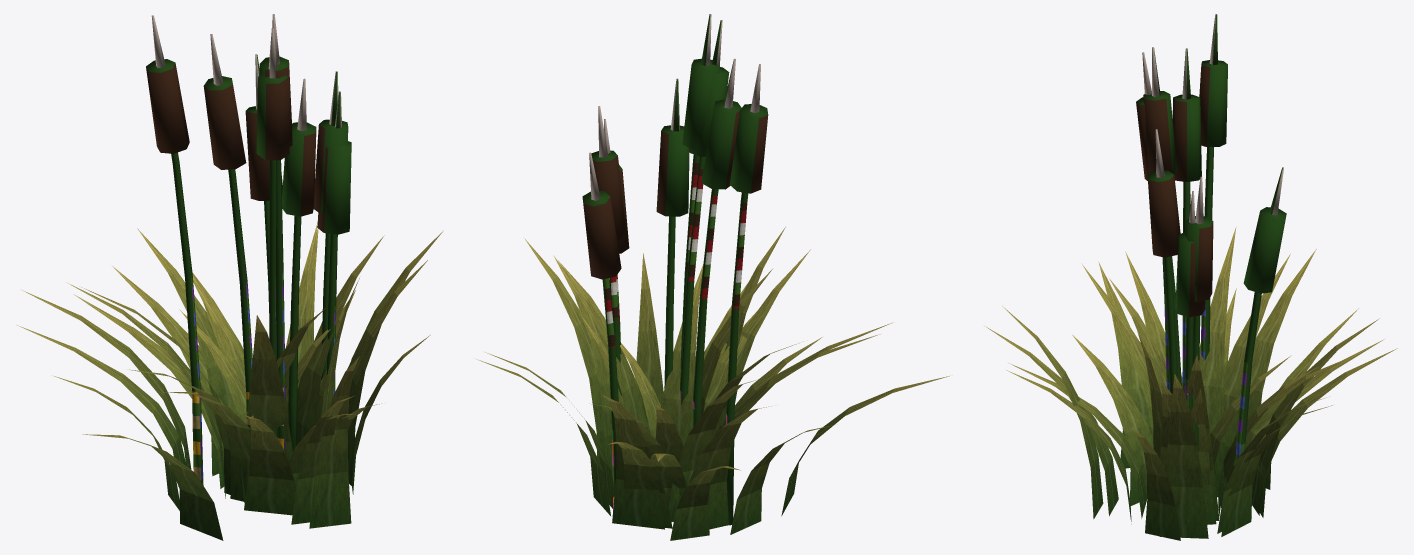
The model's file is Reed_Clump_B.glb.
3 views of the same model, side by side, from view 1: azimuth 30°, elevation 25°; view 2: azimuth 150°, elevation 25°; view 3: azimuth 270°, elevation 25° (orthographic). The views are drawn at different scales.
Parts seen in each view (by area): view 1: Reed_Clump_B__Blades, Reed_Clump_B__Heads; view 2: Reed_Clump_B__Blades, Reed_Clump_B__Heads; view 3: Reed_Clump_B__Blades, Reed_Clump_B__Heads.
Part boxes in pixels (<box>): Reed_Clump_B__Blades: <box>17,223,443,540</box>; Reed_Clump_B__Heads: <box>146,14,351,485</box>; Reed_Clump_B__Blades: <box>476,227,950,540</box>; Reed_Clump_B__Heads: <box>582,14,768,525</box>; Reed_Clump_B__Blades: <box>985,227,1397,540</box>; Reed_Clump_B__Heads: <box>1136,14,1286,463</box>.
Bounding box in the file's own units: 8.26 × 9.69 × 8.05.
Materials: 2 (2 with a texture image).
